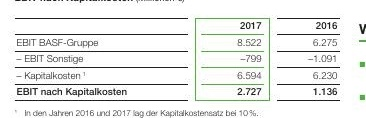table: (0, 0, 366, 118)
